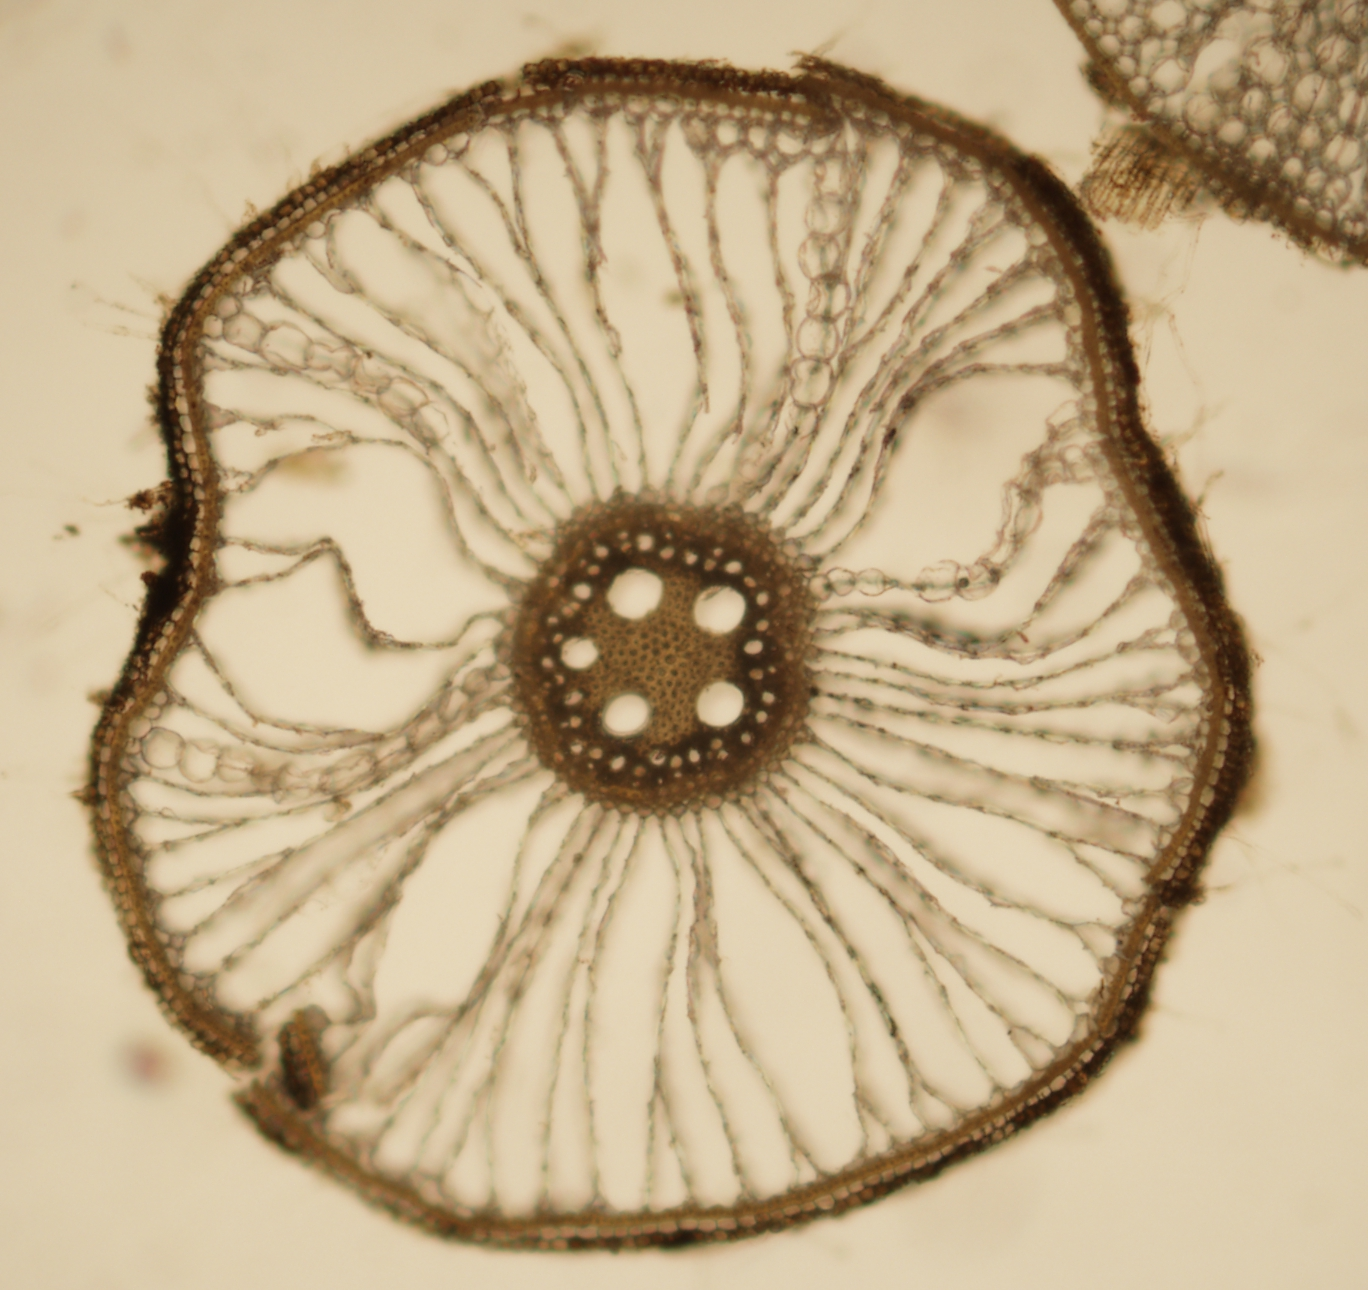lm: (605, 567, 663, 620), (692, 586, 746, 634), (696, 681, 743, 727), (602, 693, 649, 736), (560, 637, 599, 670)
